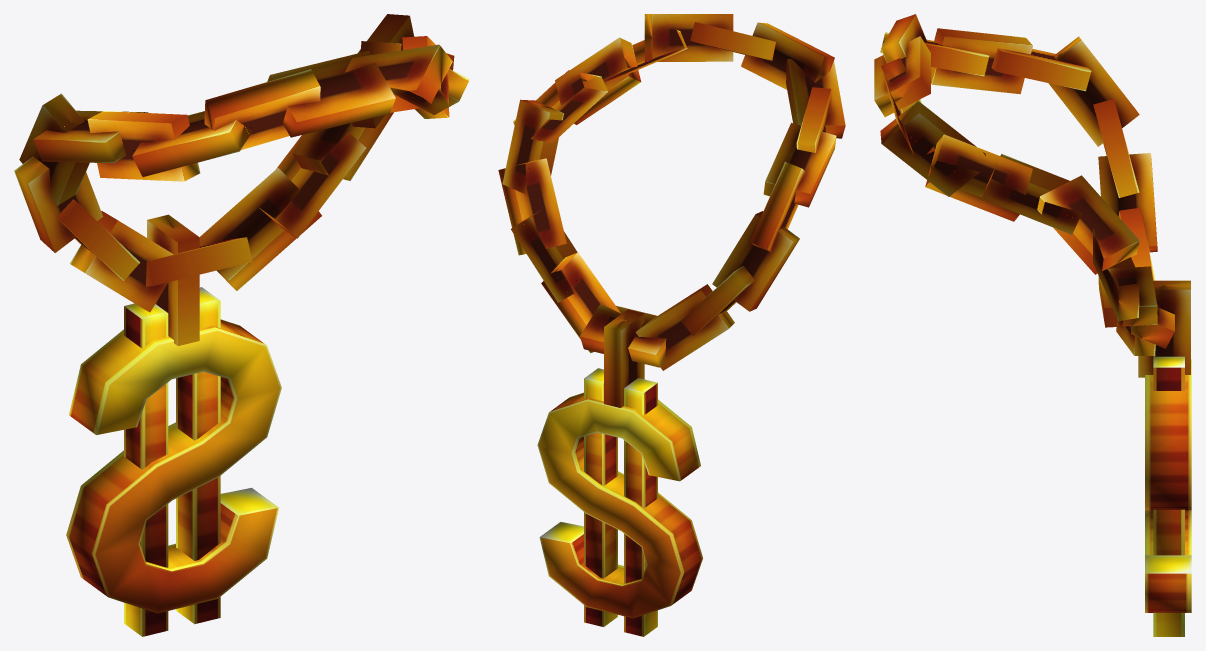
Rendered from goldChainDollar.glb.
3 renders of one model, left to right at view 1: azimuth 30°, elevation 25°; view 2: azimuth 150°, elevation 25°; view 3: azimuth 270°, elevation 25°, orthographic. The views are drawn at different scales.
Visible parts, largest first — view 1: goldChainDollar; view 2: goldChainDollar; view 3: goldChainDollar.
Part boxes in pixels (bbox=[...]): goldChainDollar: bbox=[14, 14, 469, 636]; goldChainDollar: bbox=[498, 14, 845, 636]; goldChainDollar: bbox=[874, 14, 1191, 636].
Bounding box in the file's own units: 4.07 × 6.75 × 3.39.
Materials: 1 (1 with a texture image).
